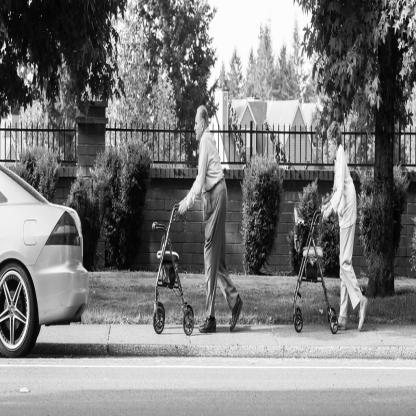Car: (1, 160, 89, 361)
